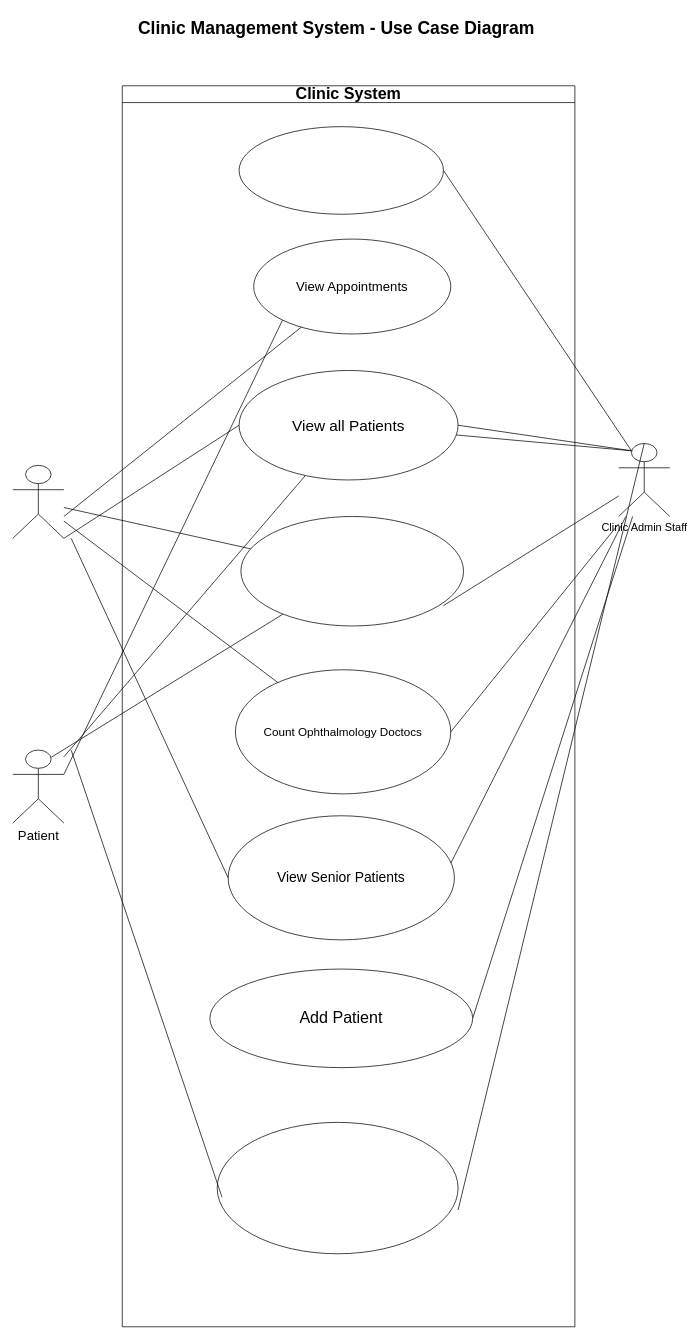
The diagram is 699 pixels wide and 1340 high, and some of its shapes have lost their labels. The shapes that lost their labels are listed below. From the top down, each one's centre as x and y in pixels, then its label:
At (340,170): "Add Doctor".
At (38,501): "Doctor".
At (352,571): "View all Doctors".
At (337,1188): "Book Appointments".
